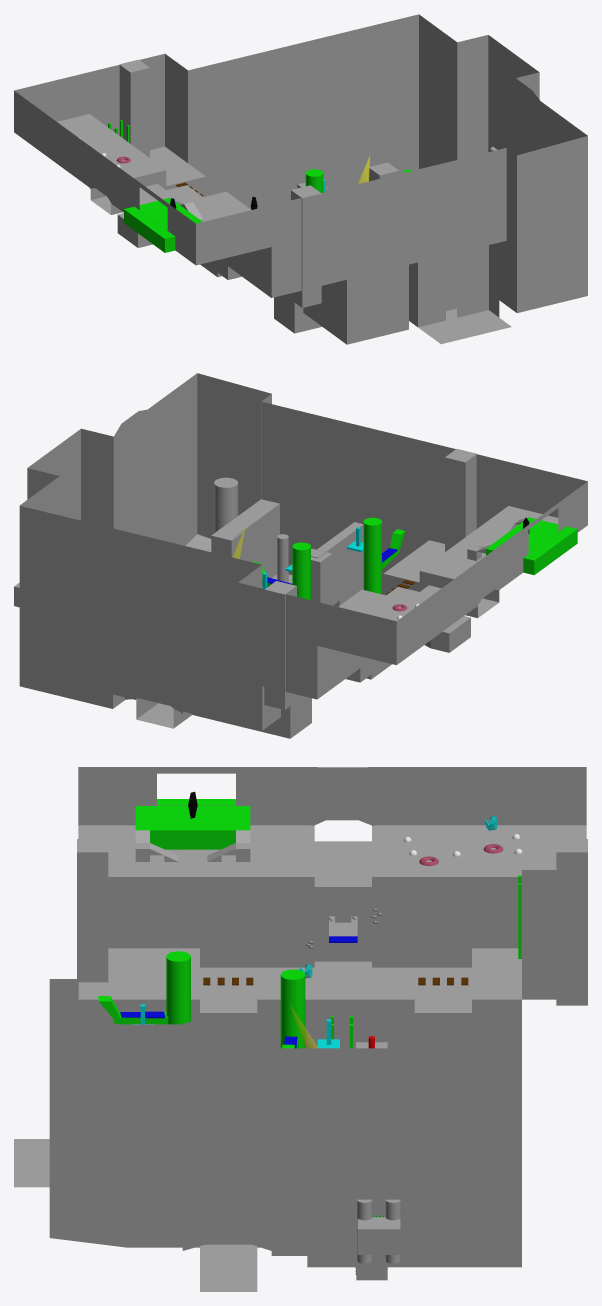
The model's file is Greybox_3_12_2020.fbx.
3 views of the same model, one above another, from view 1: azimuth 30°, elevation 25°; view 2: azimuth 150°, elevation 25°; view 3: azimuth 270°, elevation 25° (orthographic). The views are drawn at different scales.
Parts seen in each view (by area): view 1: Wall_Floor, polySurface3, Fire_Potion_Room, StreamAlcove1, Pillar5, Pillar6, StreamAlcove, ExitPlatform, TopAlcove; view 2: Wall_Floor, polySurface3, StreamAlcove, StreamAlcove1, Pillar6, Pillar5, Fire_Potion_Room, ExitPlatform, JumpingTree2, Pillar4, Tree, JumpingTree1 (+3 smaller); view 3: Wall_Floor, polySurface3, StreamAlcove, ExitPlatform, Pillar5, TopAlcove, JumpingTree1, JumpingTree2, Fire_Potion_Room, Pillar6.
Part boxes in pixels (x1,y1,x2,y2): Wall_Floor: [89, 14, 587, 333]; polySurface3: [14, 72, 506, 344]; Fire_Potion_Room: [409, 245, 511, 344]; StreamAlcove1: [263, 130, 318, 206]; Pillar5: [291, 185, 321, 307]; Pillar6: [119, 59, 149, 157]; StreamAlcove: [508, 72, 540, 155]; ExitPlatform: [124, 198, 202, 252]; TopAlcove: [89, 146, 112, 204]; Wall_Floor: [14, 373, 419, 738]; polySurface3: [261, 401, 587, 681]; StreamAlcove: [81, 409, 147, 536]; StreamAlcove1: [124, 627, 182, 713]; Pillar6: [264, 581, 296, 709]; Pillar5: [445, 449, 476, 551]; Fire_Potion_Room: [262, 504, 363, 586]; ExitPlatform: [486, 517, 577, 575]; JumpingTree2: [363, 517, 381, 594]; Pillar4: [311, 548, 332, 605]; Tree: [214, 477, 238, 533]; JumpingTree1: [292, 542, 310, 600]; Wall_Floor: [49, 870, 586, 1291]; polySurface3: [78, 767, 586, 1048]; StreamAlcove: [182, 1017, 271, 1250]; ExitPlatform: [135, 799, 250, 849]; Pillar5: [77, 839, 108, 982]; TopAlcove: [311, 767, 375, 825]; JumpingTree1: [280, 969, 305, 1048]; JumpingTree2: [166, 951, 190, 1024]; Fire_Potion_Room: [14, 1139, 49, 1187]; Pillar6: [556, 839, 587, 1005].
Bounding box in the file's own units: 9940 × 4050 × 8020.
